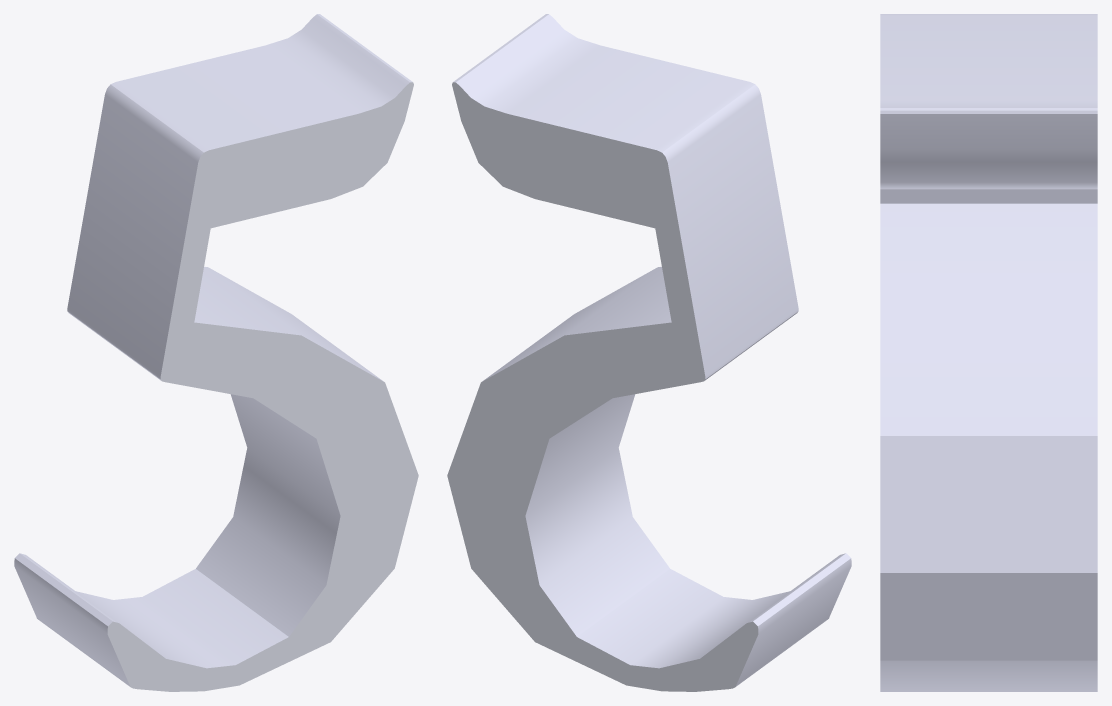
The model's file is e60fb6bf-b47c-457b-bae6-9111a6d4ed88.glb.
3 views of the same model, side by side, from view 1: azimuth 30°, elevation 25°; view 2: azimuth 150°, elevation 25°; view 3: azimuth 270°, elevation 25° (orthographic). The views are drawn at different scales.
Parts seen in each view (by area): view 1: 5_Soul_Grey; view 2: 5_Soul_Grey; view 3: 5_Soul_Grey.
Part boxes in pixels (left/top/right/bottom): 5_Soul_Grey: left=14, top=14, right=418, bottom=691; 5_Soul_Grey: left=447, top=14, right=851, bottom=691; 5_Soul_Grey: left=880, top=14, right=1097, bottom=691.
Size of what is drawn, in the model's own units: 0.0867 by 0.1494 by 0.045.
2 materials, 2 textured.
